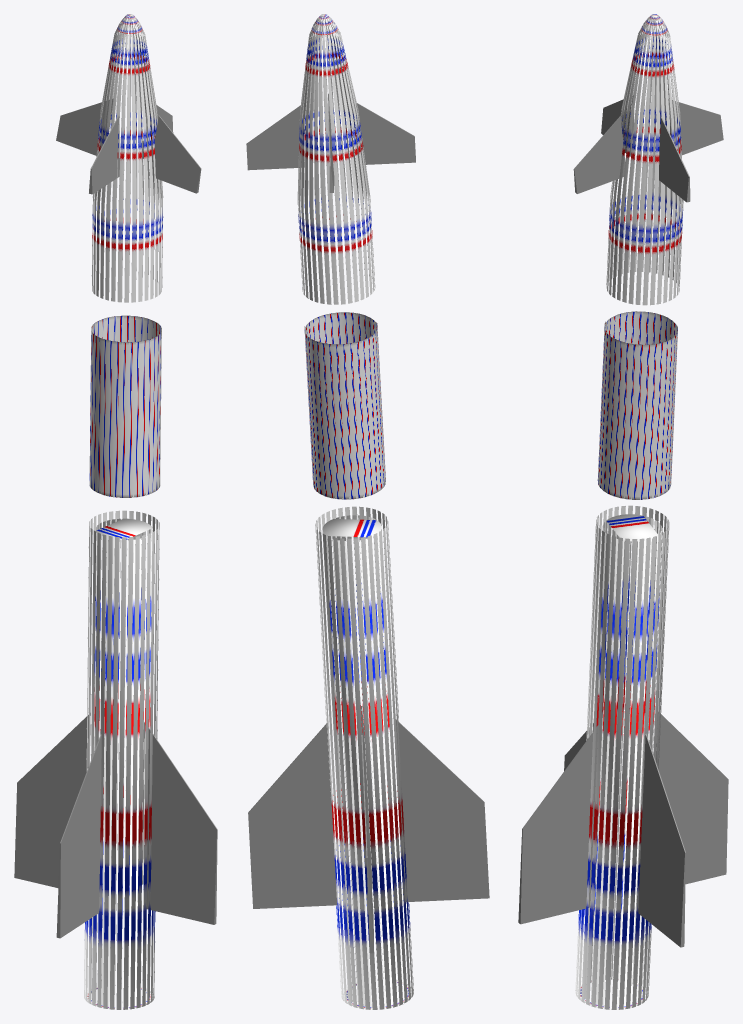
File: goat1.obj
The picture shows the model from 3 angles, left to right: view 1: azimuth 30°, elevation 25°; view 2: azimuth 150°, elevation 25°; view 3: azimuth 270°, elevation 25°; orthographic projection. The views are drawn at different scales.
Visible parts, largest first — view 1: Cylinder, Cube.006_Cube.008, Cube.007_Cube.009, Cube.004_Cube.006, Cube.003_Cube.004, Cube.002_Cube.003, Cube_Cube.001; view 2: Cylinder, Cube.005_Cube.007, Cube.004_Cube.006, Cube.001_Cube.002, Cube_Cube.001, Cube.007_Cube.009; view 3: Cylinder, Cube.006_Cube.008, Cube.007_Cube.009, Cube.005_Cube.007, Cube.003_Cube.004, Cube.002_Cube.003, Cube.001_Cube.002, Cube_Cube.001.
Part boxes in pixels (x1,y1,x2,y2): Cylinder: (84, 14, 163, 1009); Cube.006_Cube.008: (146, 727, 217, 924); Cube.007_Cube.009: (14, 713, 90, 887); Cube.004_Cube.006: (56, 734, 101, 938); Cube.003_Cube.004: (149, 115, 201, 193); Cube.002_Cube.003: (56, 98, 113, 155); Cube_Cube.001: (89, 115, 119, 194); Cylinder: (297, 14, 413, 1009); Cube.005_Cube.007: (248, 723, 337, 908); Cube.004_Cube.006: (395, 719, 489, 902); Cube.001_Cube.002: (246, 105, 304, 170); Cube_Cube.001: (356, 103, 415, 165); Cube.007_Cube.009: (361, 735, 373, 953); Cylinder: (575, 14, 683, 1009); Cube.006_Cube.008: (518, 725, 598, 924); Cube.007_Cube.009: (656, 712, 728, 884); Cube.005_Cube.007: (638, 733, 685, 947); Cube.003_Cube.004: (573, 116, 625, 193); Cube.002_Cube.003: (668, 99, 723, 155); Cube.001_Cube.002: (659, 117, 690, 202); Cube_Cube.001: (601, 95, 634, 156).
Bounding box in the file's own units: 1.55 × 8.06 × 1.54.
